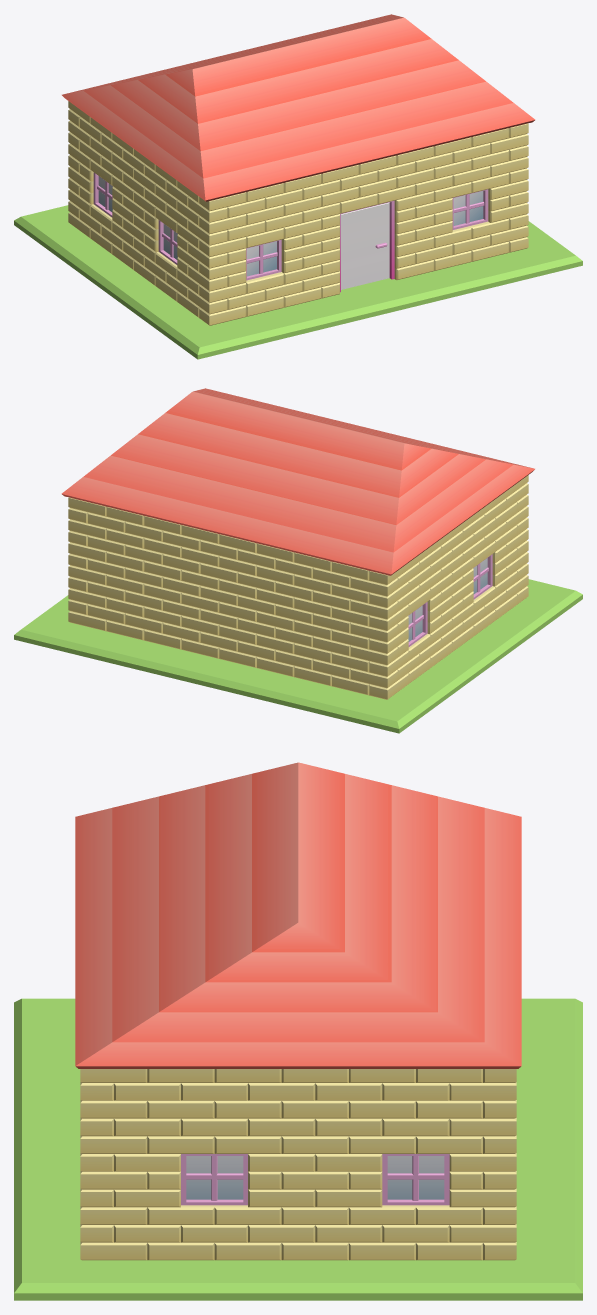
File: HouseSmall.fbx
3 renders of one model, top to bottom at view 1: azimuth 30°, elevation 25°; view 2: azimuth 150°, elevation 25°; view 3: azimuth 270°, elevation 25°, orthographic. The views are drawn at different scales.
Visible parts, largest first — view 1: HS_293, HouseSmallBase, HS_294, HS_296, HS_295, HS_299, HS_300, HS_106, HS_1, HS_55, HS_154, HS_209 (+58 smaller); view 2: HS_293, HouseSmallBase, HS_300, HS_299, HS_100, HS_49, HS_148, HS_259, HS_203, HS_126, HS_175, HS_22 (+77 smaller); view 3: HS_293, HouseSmallBase, HS_298, HS_297, HS_9, HS_63, HS_64, HS_194, HS_218, HS_115, HS_219, HS_220 (+50 smaller).
Part boxes in pixels (bbox=[...]): HS_293: bbox=[62, 14, 535, 201]; HouseSmallBase: bbox=[14, 205, 582, 359]; HS_294: bbox=[340, 200, 394, 292]; HS_296: bbox=[452, 189, 488, 229]; HS_295: bbox=[246, 239, 281, 280]; HS_299: bbox=[93, 172, 112, 217]; HS_300: bbox=[158, 220, 177, 264]; HS_106: bbox=[199, 260, 246, 279]; HS_1: bbox=[199, 305, 246, 325]; HS_55: bbox=[199, 283, 246, 302]; HS_154: bbox=[199, 237, 246, 256]; HS_209: bbox=[199, 214, 246, 233]; HS_293: bbox=[61, 388, 534, 575]; HouseSmallBase: bbox=[14, 579, 582, 733]; HS_300: bbox=[473, 554, 492, 599]; HS_299: bbox=[408, 602, 427, 646]; HS_100: bbox=[350, 645, 397, 665]; HS_49: bbox=[350, 668, 397, 688]; HS_148: bbox=[350, 622, 397, 642]; HS_259: bbox=[350, 576, 397, 596]; HS_203: bbox=[350, 599, 397, 619]; HS_126: bbox=[369, 627, 408, 653]; HS_175: bbox=[369, 604, 408, 630]; HS_22: bbox=[369, 673, 408, 699]; HS_293: bbox=[75, 762, 521, 1068]; HouseSmallBase: bbox=[14, 998, 582, 1300]; HS_298: bbox=[382, 1154, 449, 1205]; HS_297: bbox=[181, 1154, 247, 1205]; HS_9: bbox=[147, 1242, 214, 1260]; HS_63: bbox=[147, 1205, 214, 1224]; HS_64: bbox=[214, 1205, 281, 1224]; HS_194: bbox=[382, 1118, 449, 1136]; HS_218: bbox=[147, 1100, 214, 1118]; HS_115: bbox=[281, 1171, 348, 1189]; HS_219: bbox=[214, 1100, 281, 1118]; HS_220: bbox=[281, 1100, 348, 1118].
Bounding box in the file's own units: 975 × 488 × 806.
